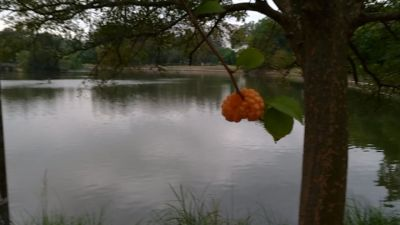eggs: (223, 88, 264, 122)
